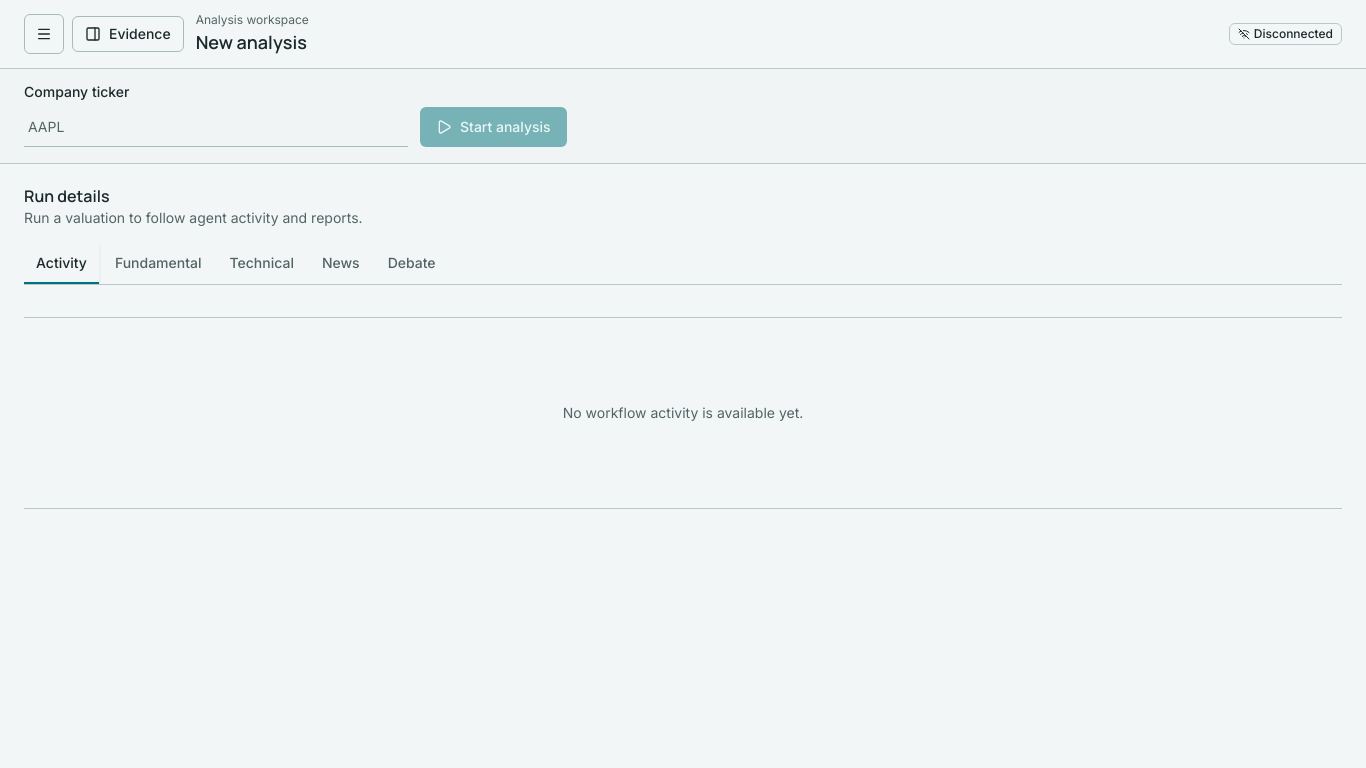
it: WorkspacePage › opens evidence details from the mobile evidence sheet
Click the button "Evidence" at (128, 34), box [72,16,184,52]
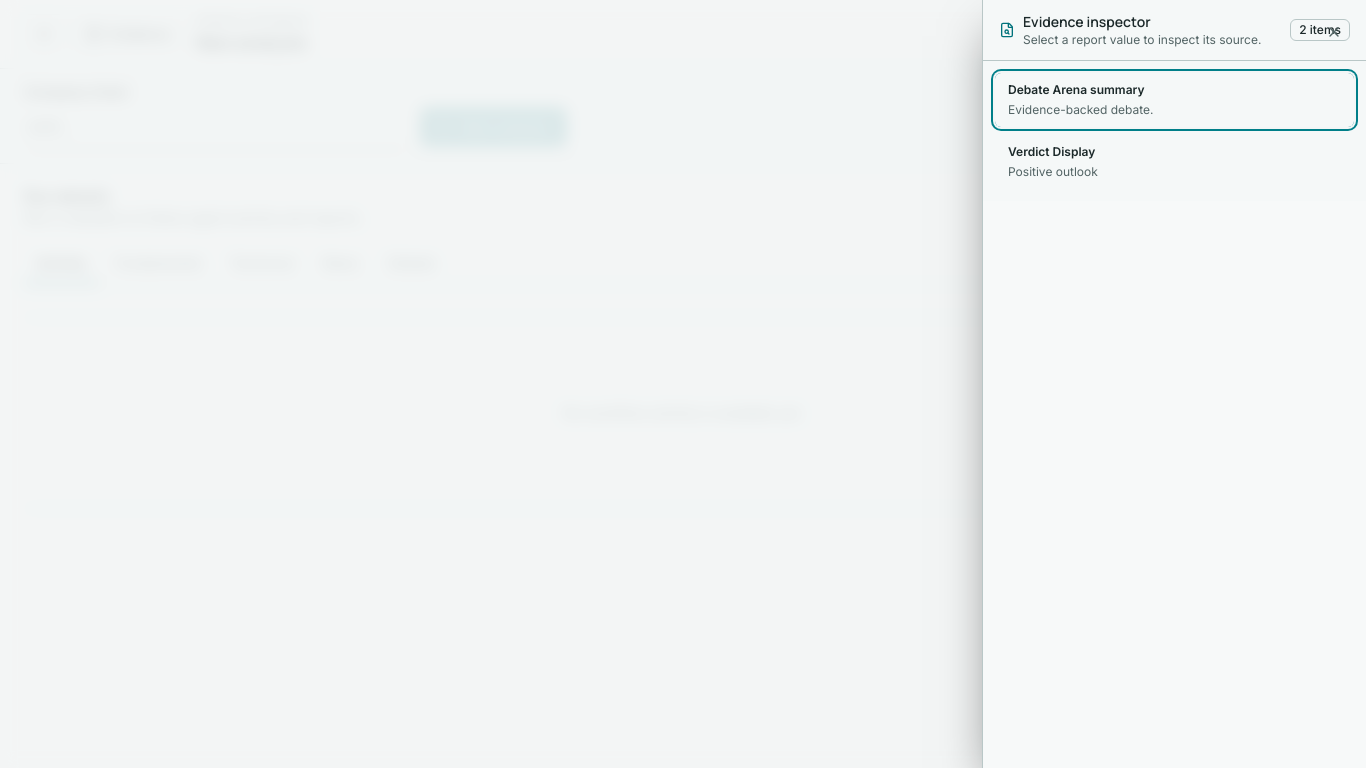
Result: the dialog is shown at [982,0,1365,767]
Result: the heading "Evidence inspector" is shown at [1023,12,1151,31]
